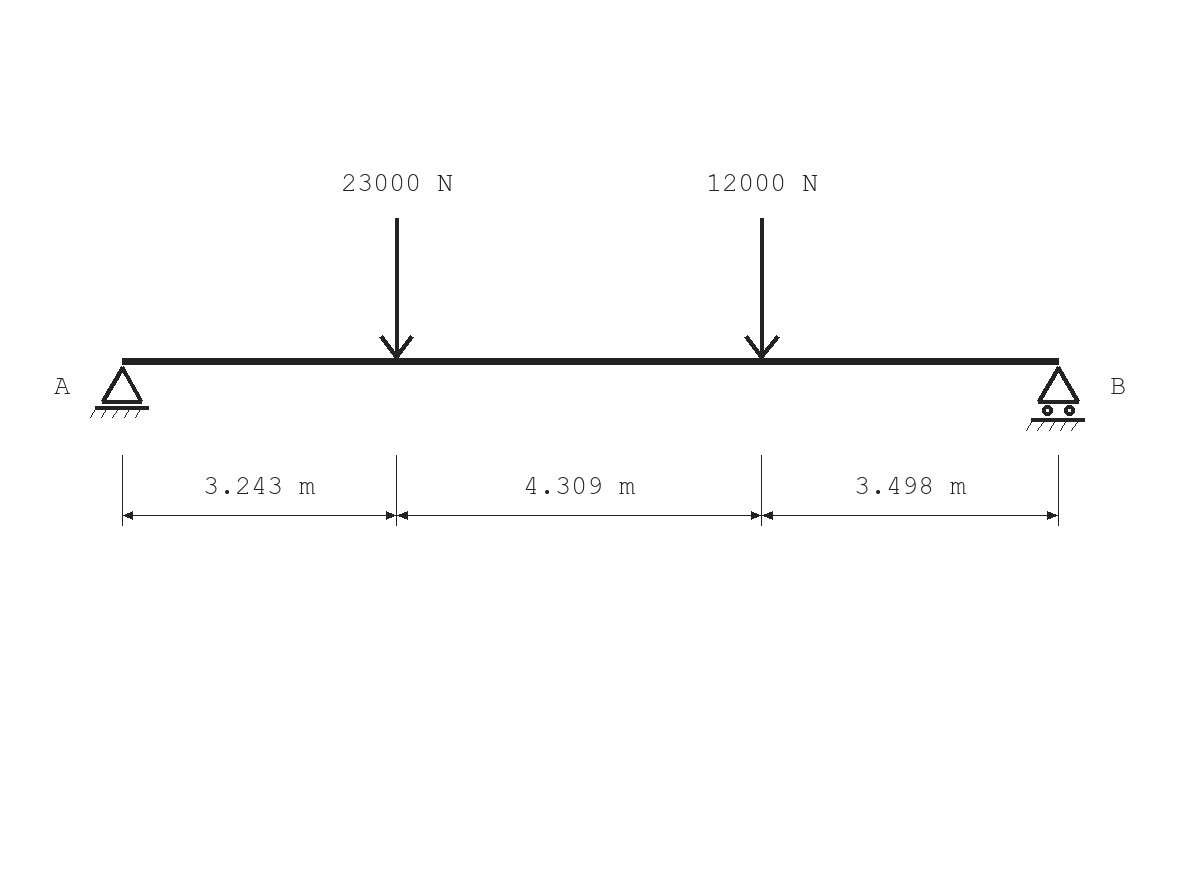pin_support: (90, 366, 149, 418)
point_load: (744, 218, 780, 359), (379, 218, 414, 359)
roller_support: (1026, 366, 1085, 431)
